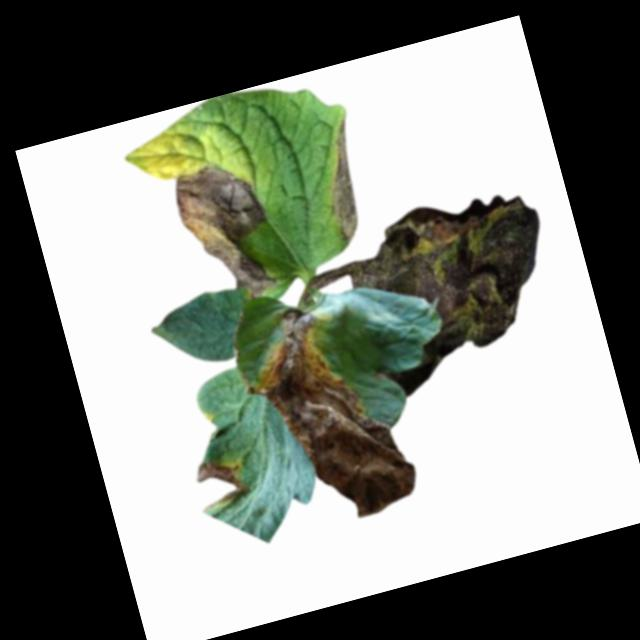Early_blight: (338, 174, 575, 402), (229, 288, 423, 538), (168, 155, 283, 311), (311, 116, 377, 246), (191, 452, 252, 513)
